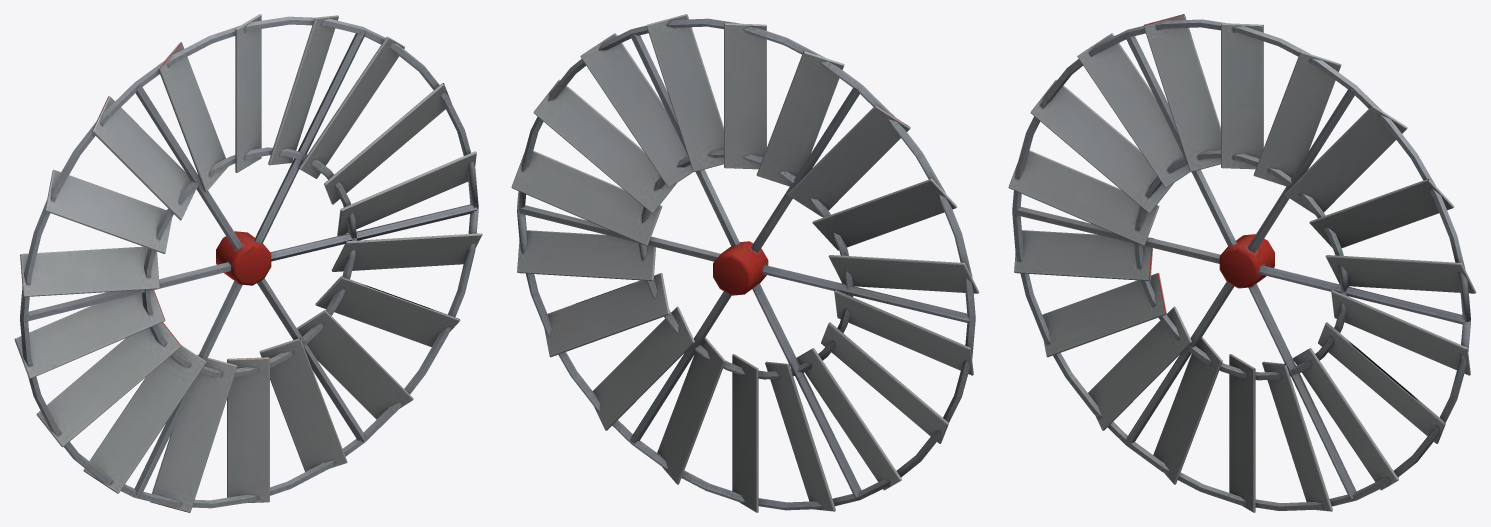
The model's file is windmill_rotor.glb.
The picture shows the model from 3 angles, left to right: view 1: azimuth 30°, elevation 25°; view 2: azimuth 150°, elevation 25°; view 3: azimuth 330°, elevation 25°; orthographic projection.
Parts seen in each view (by area): view 1: windmill_rotor; view 2: windmill_rotor; view 3: windmill_rotor.
Boxes of the visible parts, left/top/right/bottom form: windmill_rotor: left=14, top=14, right=482, bottom=512; windmill_rotor: left=511, top=14, right=979, bottom=512; windmill_rotor: left=1008, top=14, right=1476, bottom=512.
Bounding box in the file's own units: 2.69 × 2.7 × 0.2016.
Materials: 1 (1 with a texture image).
